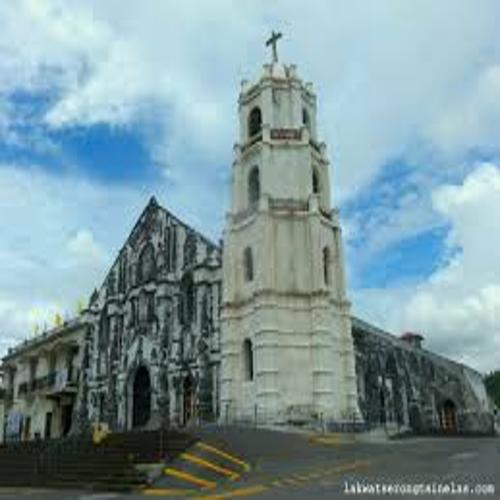Daraga Church: (71, 28, 364, 435)
